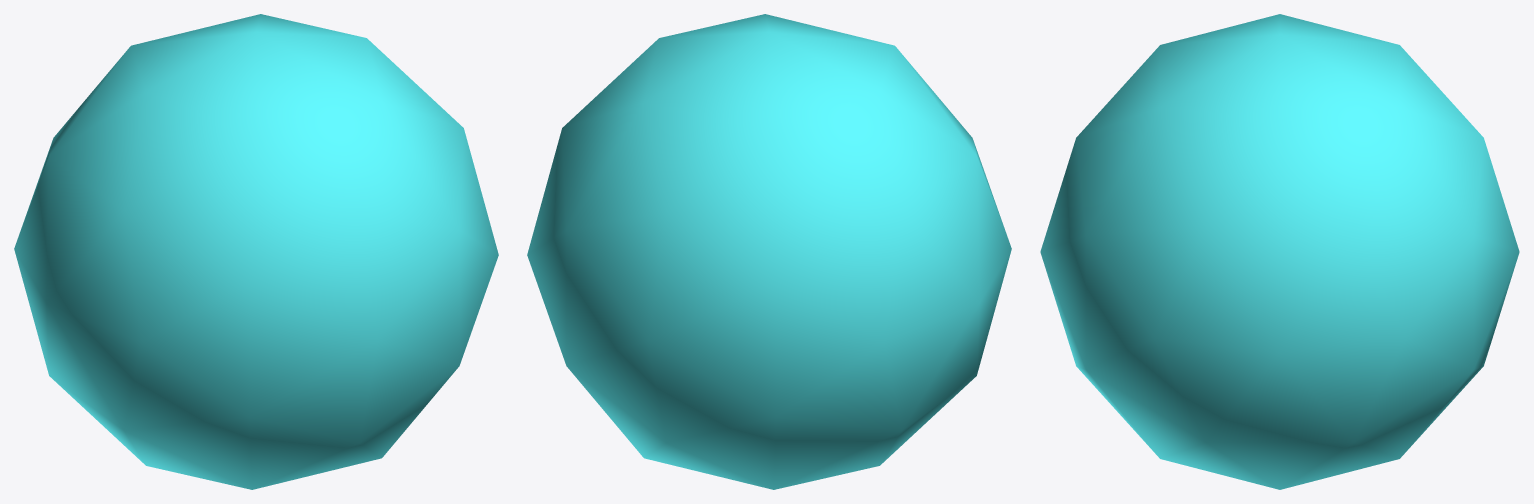
3 views of the same model, side by side, from view 1: azimuth 30°, elevation 25°; view 2: azimuth 150°, elevation 25°; view 3: azimuth 270°, elevation 25° (orthographic).
Visible parts, largest first — view 1: Icosahedron 1; view 2: Icosahedron 1; view 3: Icosahedron 1.
Part boxes in pixels (bbox=[...]): Icosahedron 1: bbox=[14, 14, 498, 489]; Icosahedron 1: bbox=[527, 14, 1011, 489]; Icosahedron 1: bbox=[1040, 14, 1519, 489].
Size of what is drawn, in the model's own units: 150 by 150 by 150.
